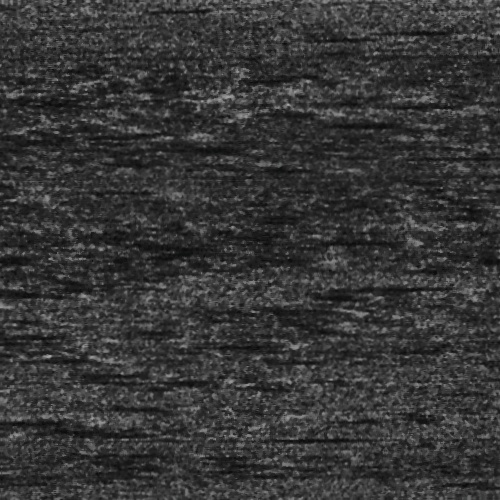object: (437, 282, 500, 289), (68, 353, 131, 358)
shadow: (367, 282, 474, 289), (0, 353, 99, 358), (456, 155, 500, 160)
